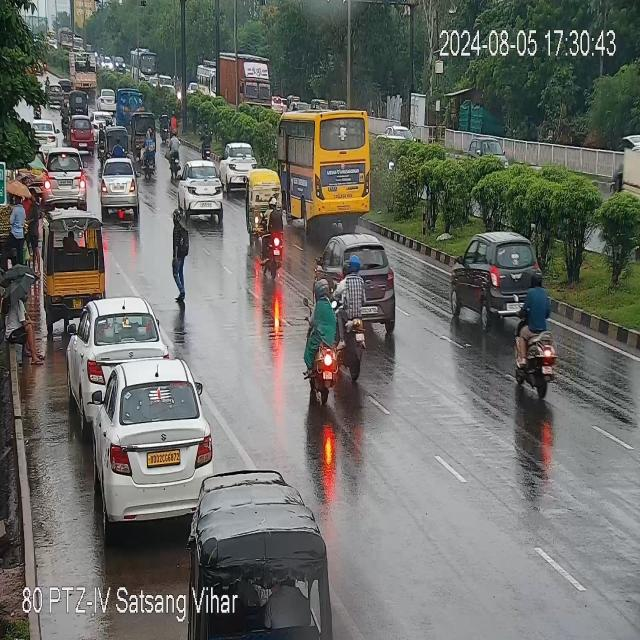2-wheelers: (509, 278, 557, 402), (338, 255, 371, 392), (304, 282, 336, 418), (260, 214, 284, 276), (140, 130, 157, 178), (168, 129, 182, 175), (199, 118, 213, 160), (97, 122, 106, 166), (160, 104, 170, 142), (60, 101, 69, 140), (111, 138, 122, 156), (170, 106, 178, 128)
auto: (197, 461, 325, 640), (44, 220, 103, 308), (246, 168, 280, 237), (106, 125, 133, 160), (132, 113, 145, 156)
bus: (279, 104, 375, 220), (129, 48, 158, 88)
car: (85, 357, 213, 525), (448, 234, 543, 325), (70, 298, 160, 394), (319, 235, 399, 323), (178, 159, 223, 219), (44, 154, 89, 208), (100, 156, 136, 212), (221, 142, 260, 190), (469, 136, 509, 166), (70, 114, 96, 150), (30, 118, 56, 152), (98, 89, 116, 115), (48, 85, 61, 107), (92, 110, 100, 141)
pedestrian: (4, 282, 46, 365), (173, 207, 192, 303), (8, 194, 29, 262)
truck: (201, 52, 279, 111), (69, 49, 97, 96), (118, 88, 145, 117)
